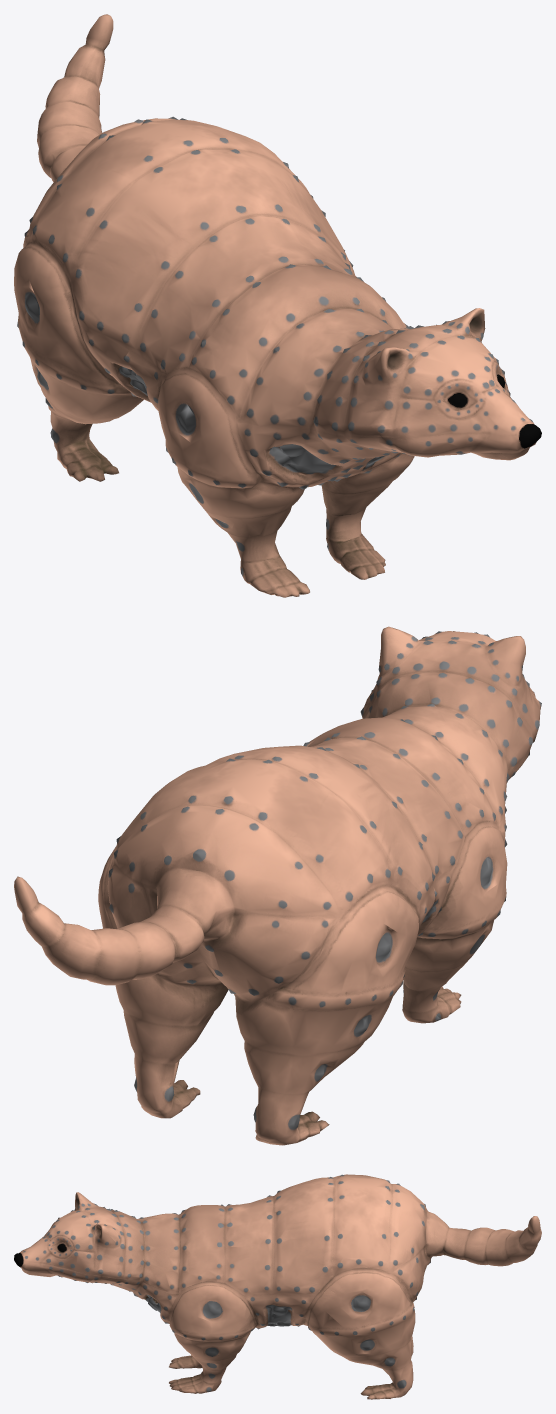
Rendered from MZ4250 - Badger Steel Defender - Copper.glb.
3 renders of one model, top to bottom at view 1: azimuth 30°, elevation 25°; view 2: azimuth 150°, elevation 25°; view 3: azimuth 270°, elevation 25°, orthographic. The views are drawn at different scales.
Visible parts, largest first — view 1: Badger Steel Defender_low.004; view 2: Badger Steel Defender_low.004; view 3: Badger Steel Defender_low.004.
Boxes of the visible parts, x1,y1,x2,y2 form: Badger Steel Defender_low.004: [14, 14, 541, 597]; Badger Steel Defender_low.004: [14, 626, 541, 1145]; Badger Steel Defender_low.004: [14, 1174, 541, 1399].
Bounding box in the file's own units: 0.1253 × 0.1424 × 0.3497.
Materials: 1 (1 with a texture image).
